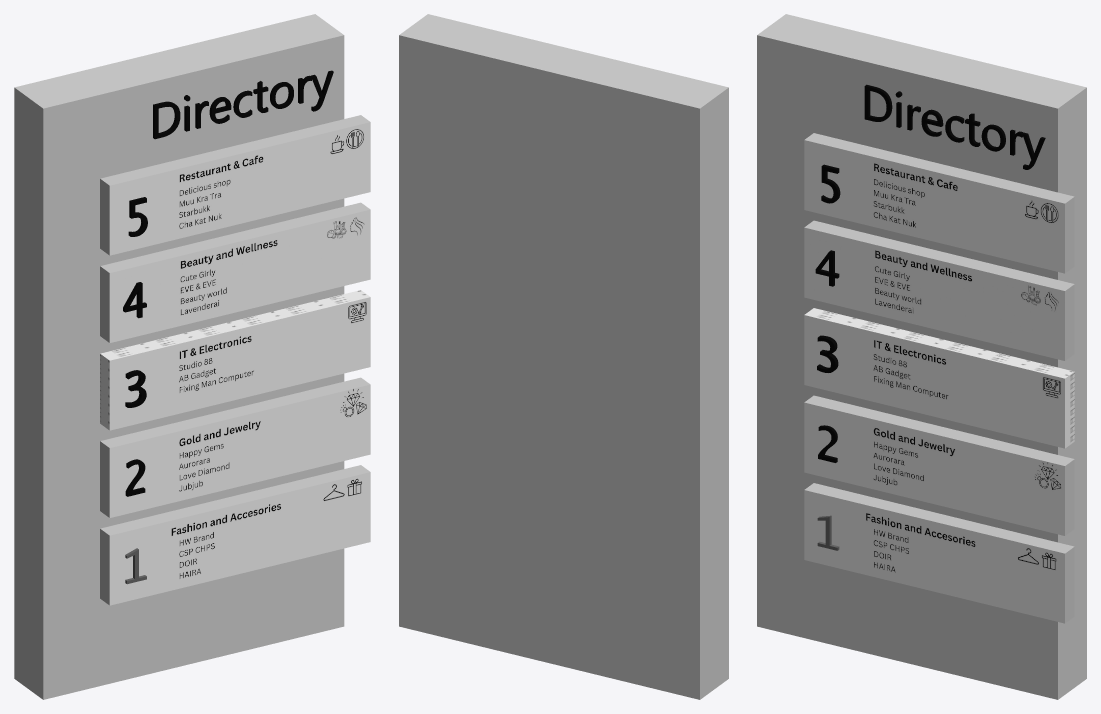
File: mall_directories.glb
The picture shows the model from 3 angles, left to right: view 1: azimuth 30°, elevation 25°; view 2: azimuth 150°, elevation 25°; view 3: azimuth 330°, elevation 25°; orthographic projection.
Visible parts, largest first — view 1: Object_2, Object_6, Object_4, Object_5, Object_8, Object_7, Object_9, Object_10; view 2: Object_2; view 3: Object_2, Object_6, Object_4, Object_5, Object_8, Object_7, Object_9, Object_10.
Part boxes in pixels (box(x1,y1,x2,y2)): Object_2: box(14, 14, 344, 699); Object_6: box(100, 290, 370, 430); Object_4: box(109, 472, 370, 605); Object_5: box(109, 384, 370, 517); Object_8: box(109, 122, 370, 255); Object_7: box(109, 209, 370, 342); Object_9: box(100, 115, 370, 605); Object_10: box(123, 70, 333, 496); Object_2: box(399, 14, 728, 699); Object_2: box(757, 14, 1086, 699); Object_6: box(804, 308, 1074, 448); Object_4: box(804, 490, 1064, 623); Object_5: box(804, 402, 1064, 535); Object_8: box(804, 140, 1064, 273); Object_7: box(804, 227, 1064, 360); Object_9: box(804, 133, 1074, 623); Object_10: box(815, 84, 1045, 462).
Size of the model in its own units: 95 by 169 by 21.38.
9 materials, 5 textured.
